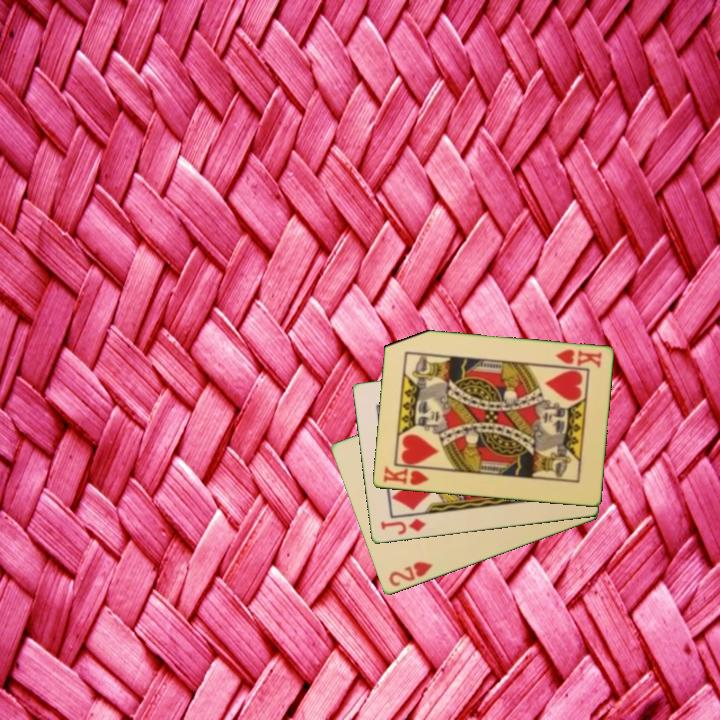2h: (385, 558, 436, 590)
Jd: (377, 515, 429, 538)
Kh: (379, 463, 436, 488), (551, 346, 604, 371)
